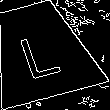L_N: (15, 23, 66, 79)
